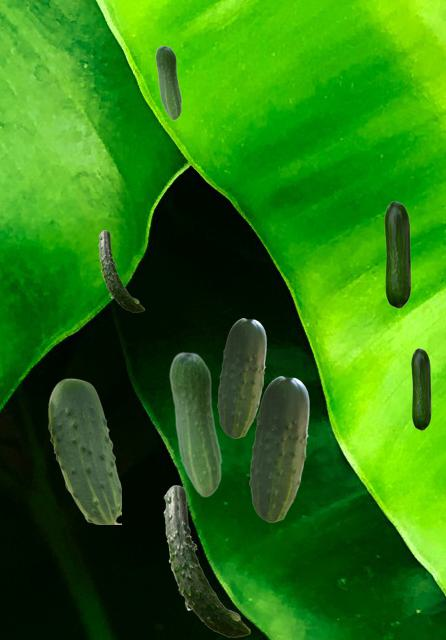cucumber: (163, 485, 249, 636), (48, 378, 120, 523), (249, 376, 308, 521), (169, 351, 221, 496), (217, 318, 265, 437), (98, 230, 143, 311), (384, 201, 410, 307), (155, 45, 181, 119), (411, 348, 430, 429)
